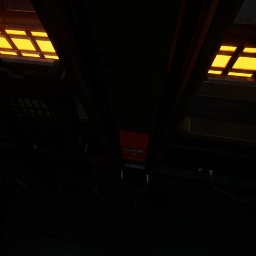FireAlarm ,: (120, 130, 148, 161)
